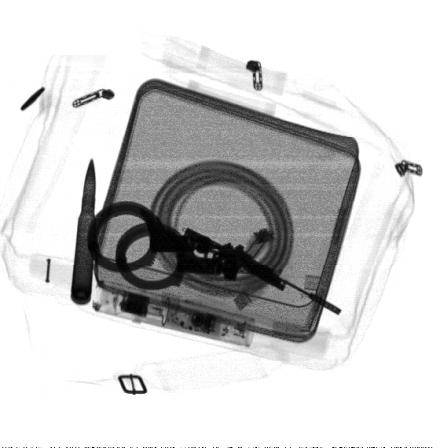Baton: (92, 279, 256, 348)
Bullet: (69, 154, 97, 304)
Gun: (154, 222, 343, 316)
HandCuffs: (88, 200, 228, 288)
